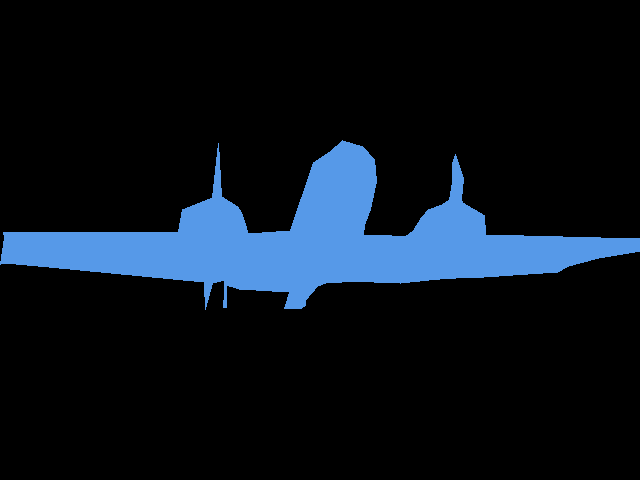Airplane: (0, 140, 640, 309)
